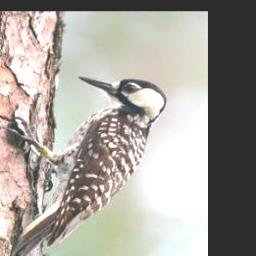Woodpecker: (0, 75, 168, 256)
